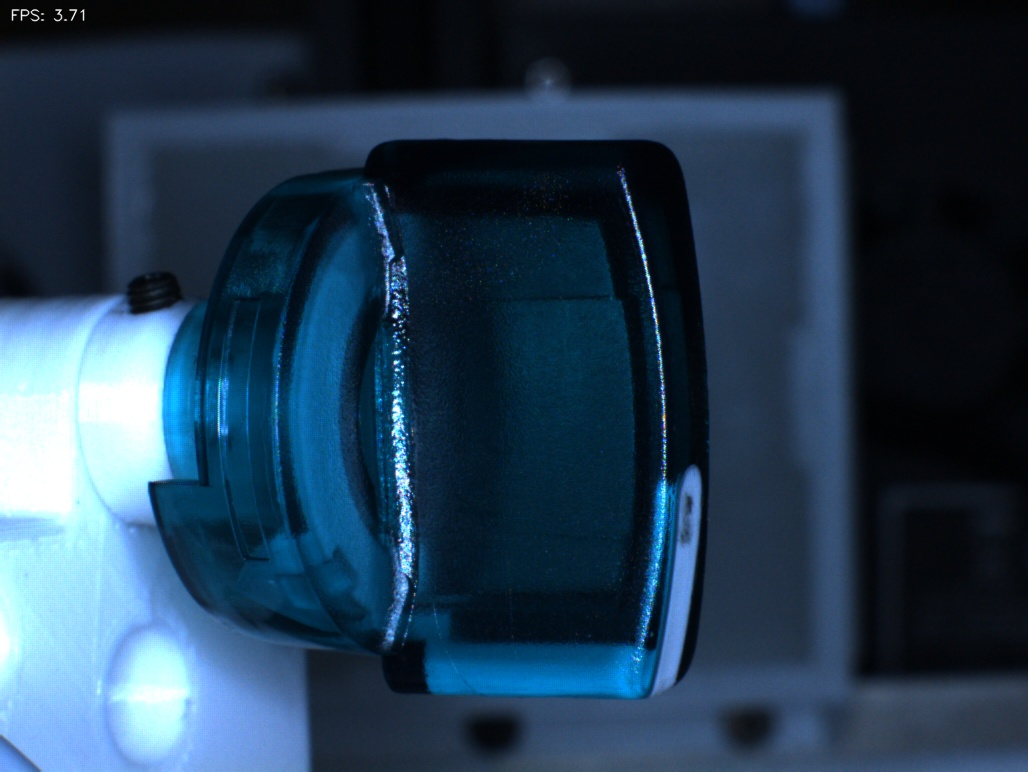PointNoir: (649, 462, 727, 566)
